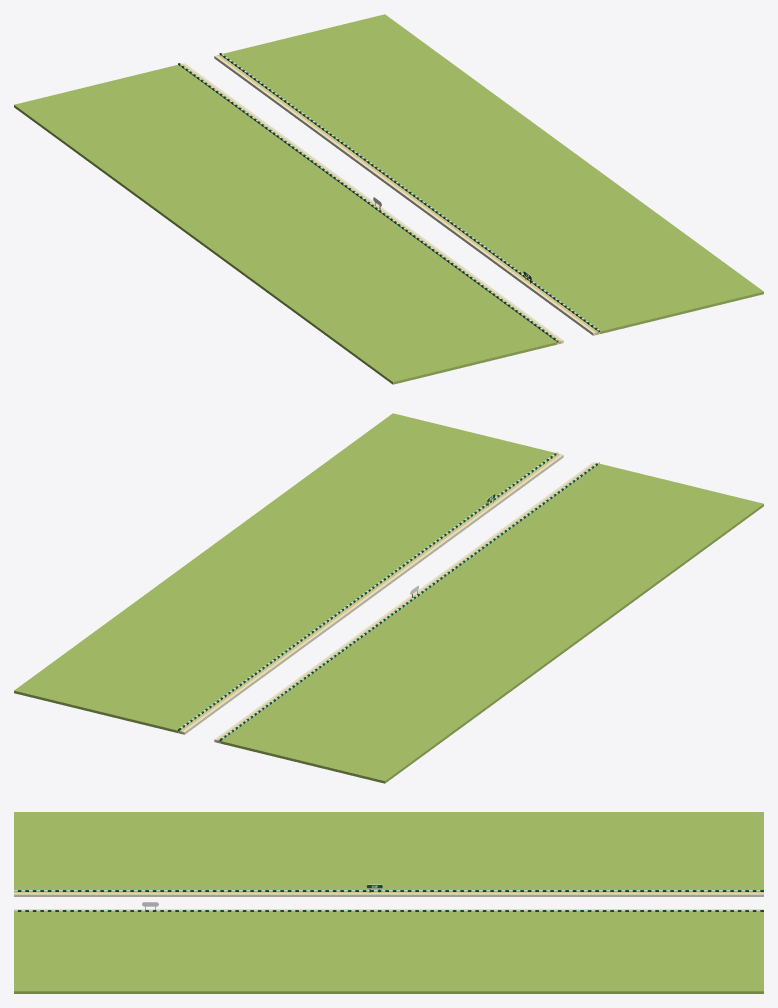
File: field.fbx
3 views of the same model, one above another, from view 1: azimuth 30°, elevation 25°; view 2: azimuth 150°, elevation 25°; view 3: azimuth 270°, elevation 25° (orthographic).
Parts seen in each view (by area): view 1: ground001, ground002, curb002, curb004, curb006, curb001, curb005, curb003; view 2: ground001, ground002, curb002, curb004, curb006, curb001, curb005, curb003; view 3: ground002, ground001, curb001, curb003, curb004, curb006, curb002.
Boxes of the visible parts, left/top/right/bottom form: ground001: left=14, top=65, right=556, bottom=384; ground002: left=223, top=14, right=763, bottom=333; curb002: left=214, top=55, right=595, bottom=335; curb004: left=178, top=63, right=558, bottom=344; curb006: left=219, top=53, right=599, bottom=334; curb001: left=182, top=63, right=563, bottom=343; curb005: left=217, top=54, right=598, bottom=334; curb003: left=181, top=64, right=560, bottom=344; ground001: left=221, top=464, right=763, bottom=783; ground002: left=14, top=413, right=554, bottom=732; curb002: left=182, top=454, right=563, bottom=734; curb004: left=219, top=462, right=599, bottom=743; curb006: left=178, top=452, right=558, bottom=733; curb001: left=214, top=462, right=595, bottom=742; curb005: left=179, top=453, right=560, bottom=733; curb003: left=217, top=463, right=596, bottom=743; ground002: left=14, top=912, right=763, bottom=993; ground001: left=14, top=812, right=763, bottom=889; curb001: left=14, top=893, right=763, bottom=896; curb003: left=14, top=892, right=763, bottom=893; curb004: left=14, top=890, right=763, bottom=891; curb006: left=14, top=910, right=763, bottom=911; curb002: left=14, top=909, right=763, bottom=909.
Bounding box in the file's own units: 1130 × 32.02 × 2000.
Materials: 9 (2 with a texture image).
